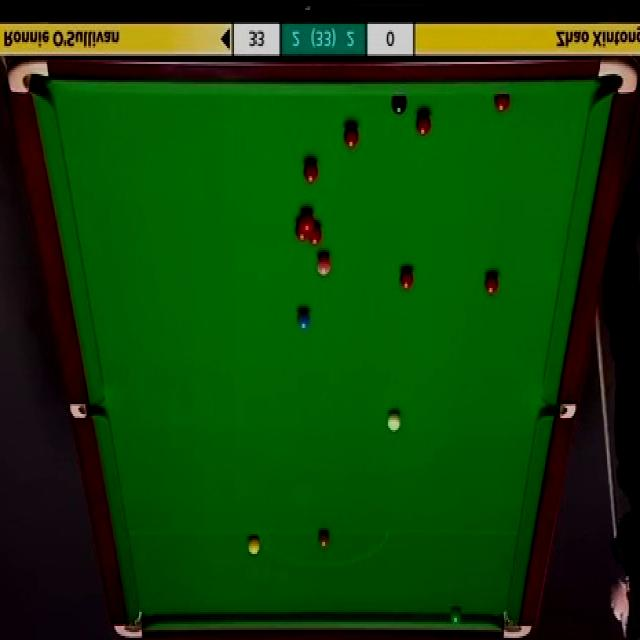black-ball: (391, 97, 406, 117)
blue-ball: (297, 308, 313, 331)
brown-ball: (317, 529, 331, 552)
green-ball: (450, 610, 463, 626)
pink-ball: (316, 251, 332, 278)
red-ball: (343, 123, 359, 151), (415, 112, 432, 138), (304, 160, 319, 185), (399, 268, 414, 292), (485, 274, 499, 296), (495, 95, 511, 114), (301, 210, 314, 232), (309, 225, 322, 247), (296, 228, 308, 241)
white-ball: (387, 412, 404, 436)
yellow-ball: (247, 537, 260, 557)
